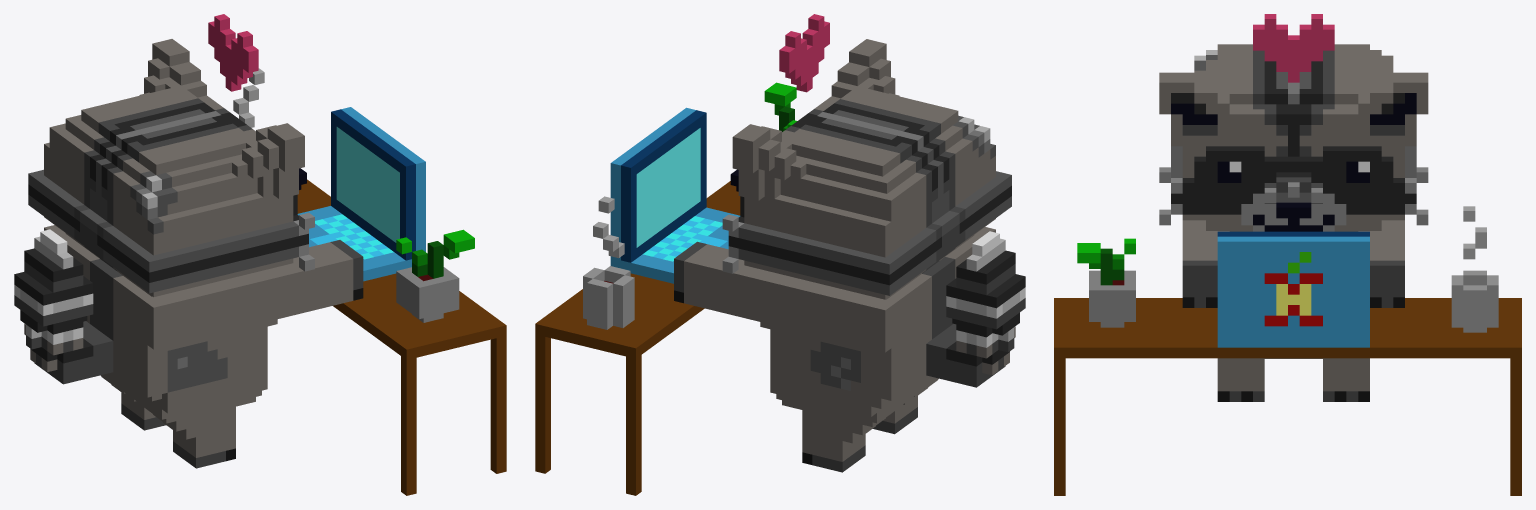
The model's file is raccoon.glb.
3 renders of one model, left to right at view 1: azimuth 30°, elevation 25°; view 2: azimuth 150°, elevation 25°; view 3: azimuth 270°, elevation 25°, orthographic.
Parts seen in each view (by area): view 1: raccoon.002; view 2: raccoon.002; view 3: raccoon.002.
Part boxes in pixels (left/top/right/bottom): raccoon.002: left=14, top=14, right=506, bottom=495; raccoon.002: left=535, top=14, right=1025, bottom=495; raccoon.002: left=1054, top=14, right=1521, bottom=495.
Bounding box in the file's own units: 3.6 × 3.8 × 4.
Materials: 1 (1 with a texture image).
